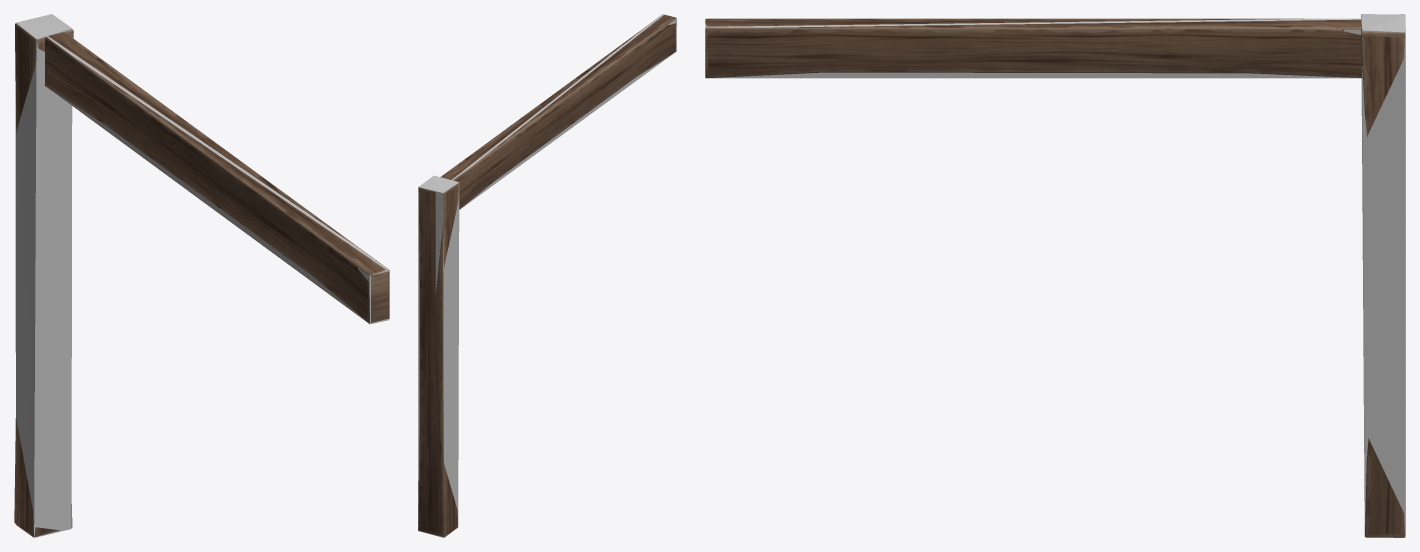
Rendered from SM_Hangar01B_2.fbx.
3 views of the same model, side by side, from view 1: azimuth 30°, elevation 25°; view 2: azimuth 150°, elevation 25°; view 3: azimuth 270°, elevation 25° (orthographic). The views are drawn at different scales.
Visible parts, largest first — view 1: SM_Hangar01B_2_ConvexHulls, SM_Hangar01B_2; view 2: SM_Hangar01B_2, SM_Hangar01B_2_ConvexHulls; view 3: SM_Hangar01B_2, SM_Hangar01B_2_ConvexHulls.
Boxes of the visible parts, left/top/right/bottom form: SM_Hangar01B_2_ConvexHulls: left=15, top=14, right=388, bottom=537; SM_Hangar01B_2: left=14, top=23, right=389, bottom=536; SM_Hangar01B_2: left=418, top=14, right=676, bottom=536; SM_Hangar01B_2_ConvexHulls: left=418, top=14, right=676, bottom=537; SM_Hangar01B_2: left=705, top=14, right=1405, bottom=537; SM_Hangar01B_2_ConvexHulls: left=705, top=14, right=1405, bottom=537.
Bounding box in the file's own units: 28.58 × 440 × 352.
2 materials, 1 textured.
